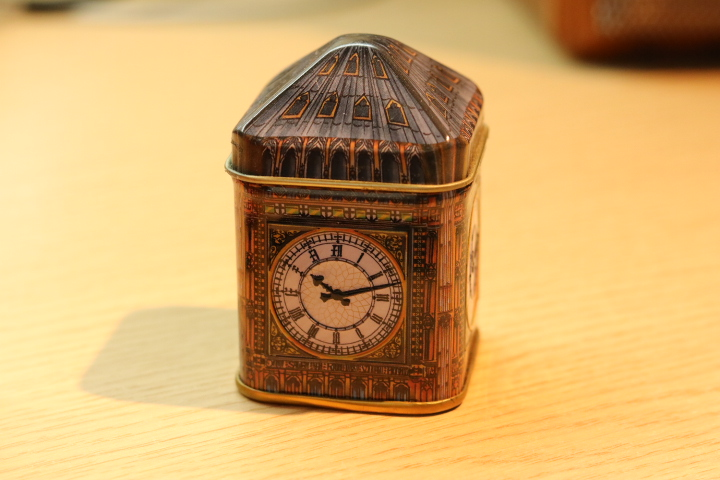Big Ben: (206, 27, 508, 431)
